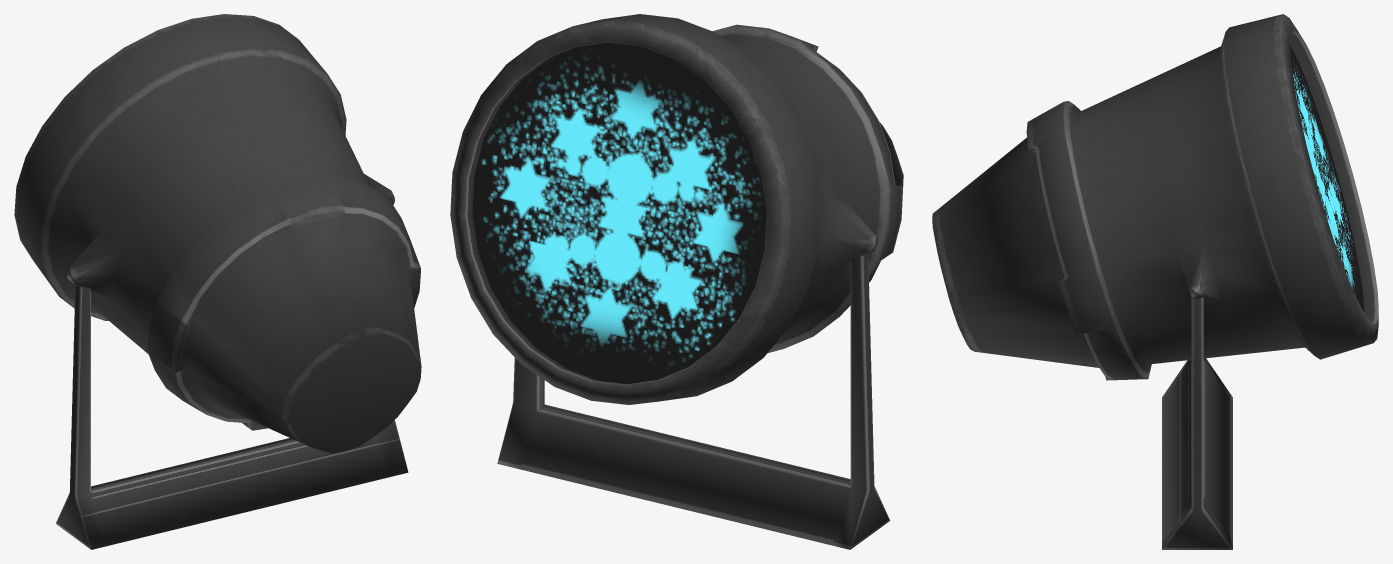
Rendered from LIH0210032.fbx.
3 views of the same model, side by side, from view 1: azimuth 30°, elevation 25°; view 2: azimuth 150°, elevation 25°; view 3: azimuth 270°, elevation 25° (orthographic). The views are drawn at different scales.
Visible parts, largest first — view 1: smLIH0210032; view 2: smLIH0210032; view 3: smLIH0210032.
Part boxes in pixels (box(x1,y1,x2,y2)): smLIH0210032: box(14, 14, 421, 549); smLIH0210032: box(450, 14, 903, 549); smLIH0210032: box(932, 14, 1378, 549).
Bounding box in the file's own units: 34.58 × 45.83 × 41.85.
Materials: 1 (1 with a texture image).
